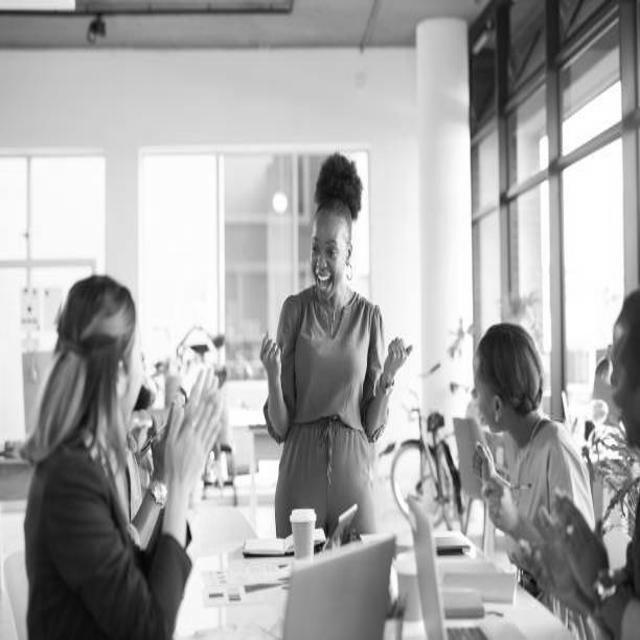Surprised: (311, 216, 345, 300)
